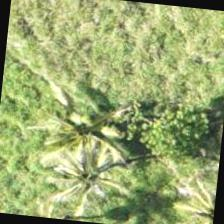Kelapa_Sawit: (37, 84, 136, 183)
